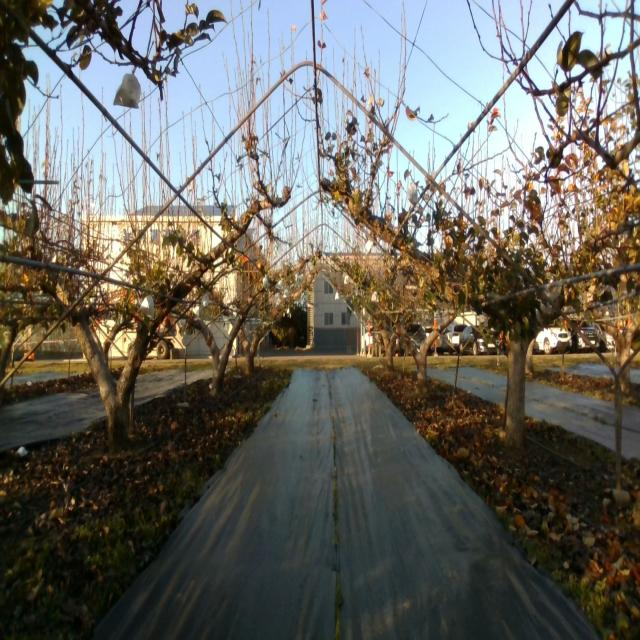pearbags: (113, 73, 142, 109), (139, 294, 155, 321), (407, 183, 419, 210)
